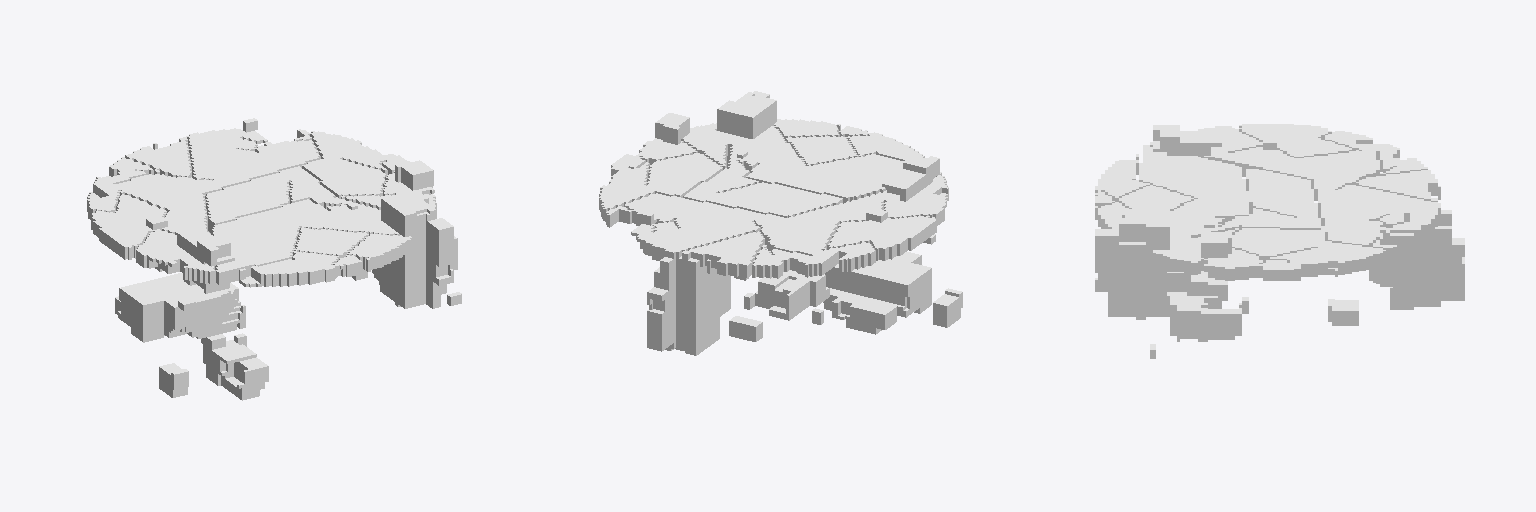
Rendered from ggj2020_stage_boss.obj.
3 renders of one model, left to right at view 1: azimuth 30°, elevation 25°; view 2: azimuth 150°, elevation 25°; view 3: azimuth 270°, elevation 25°, orthographic.
Parts seen in each view (by area): view 1: object 1; view 2: object 1; view 3: object 1.
Part boxes in pixels (bbox=[...]): object 1: bbox=[87, 118, 461, 400]; object 1: bbox=[599, 91, 962, 355]; object 1: bbox=[1095, 124, 1464, 358].
Size of the model in its own units: 10.1 by 5.2 by 10.8.